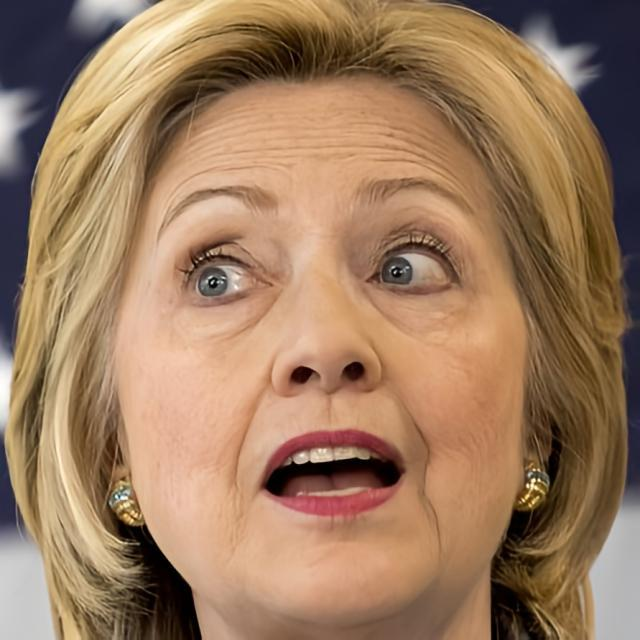surprise: (110, 70, 530, 628)
